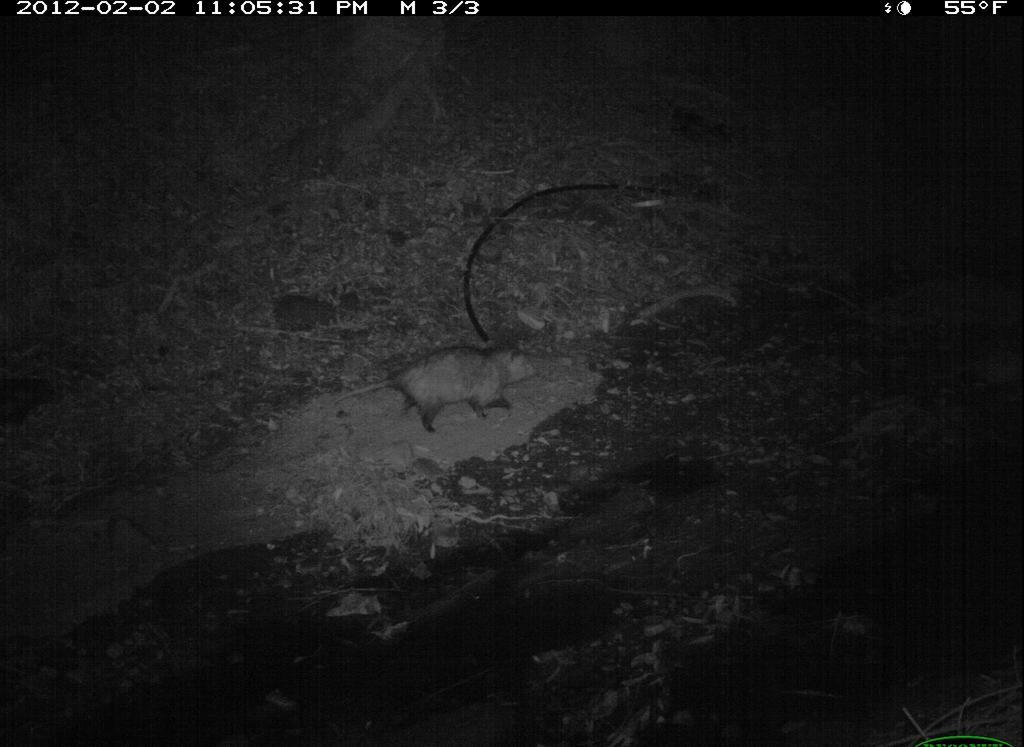opossum: (305, 332, 548, 441)
